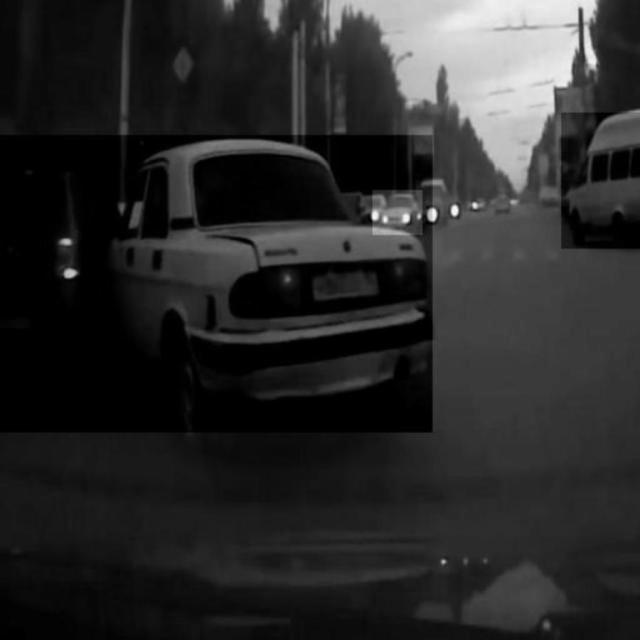accident: (0, 135, 432, 432)
vehicle: (562, 113, 640, 249), (373, 190, 423, 236)
